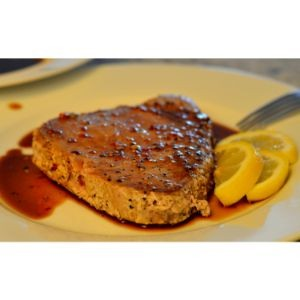tuna_brain food: (36, 89, 203, 222)
